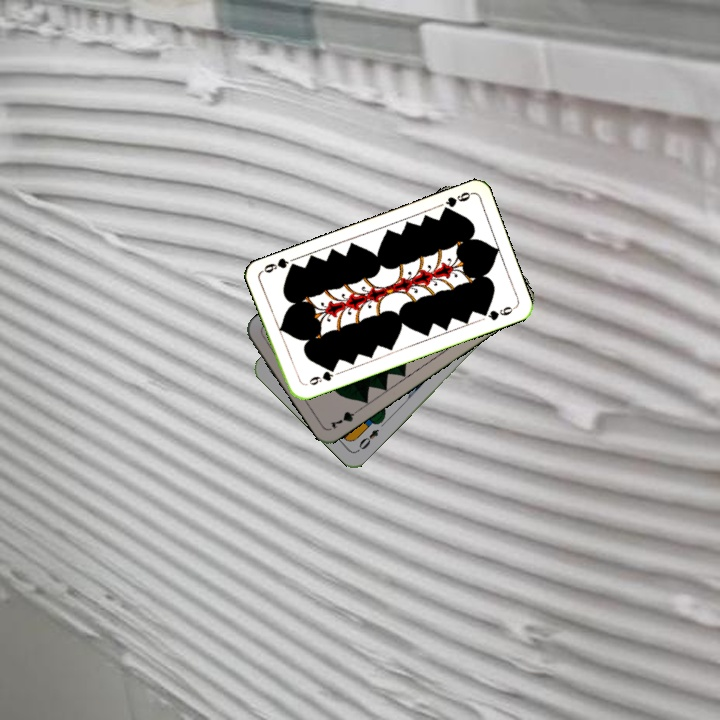EO: (353, 425, 382, 454)
G7: (326, 404, 364, 431)
G9: (438, 188, 474, 216), (305, 364, 338, 388)
